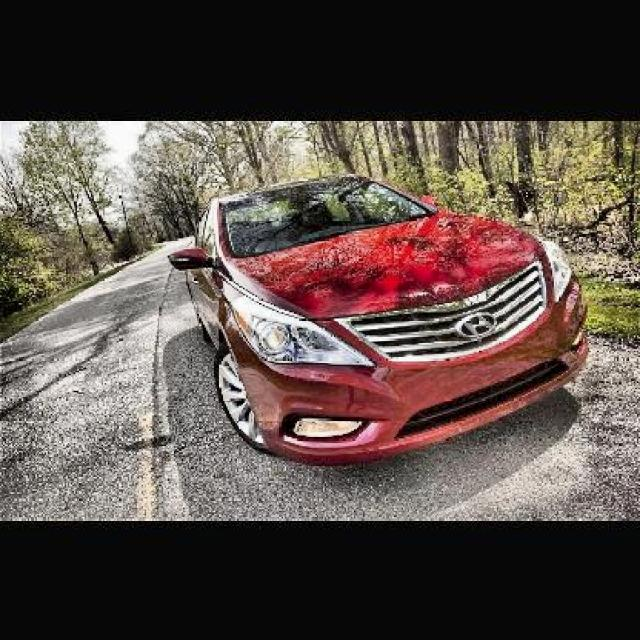maroon: (167, 177, 591, 463)
